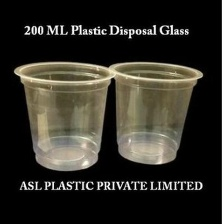glass: (11, 55, 115, 175), (102, 57, 205, 169)
